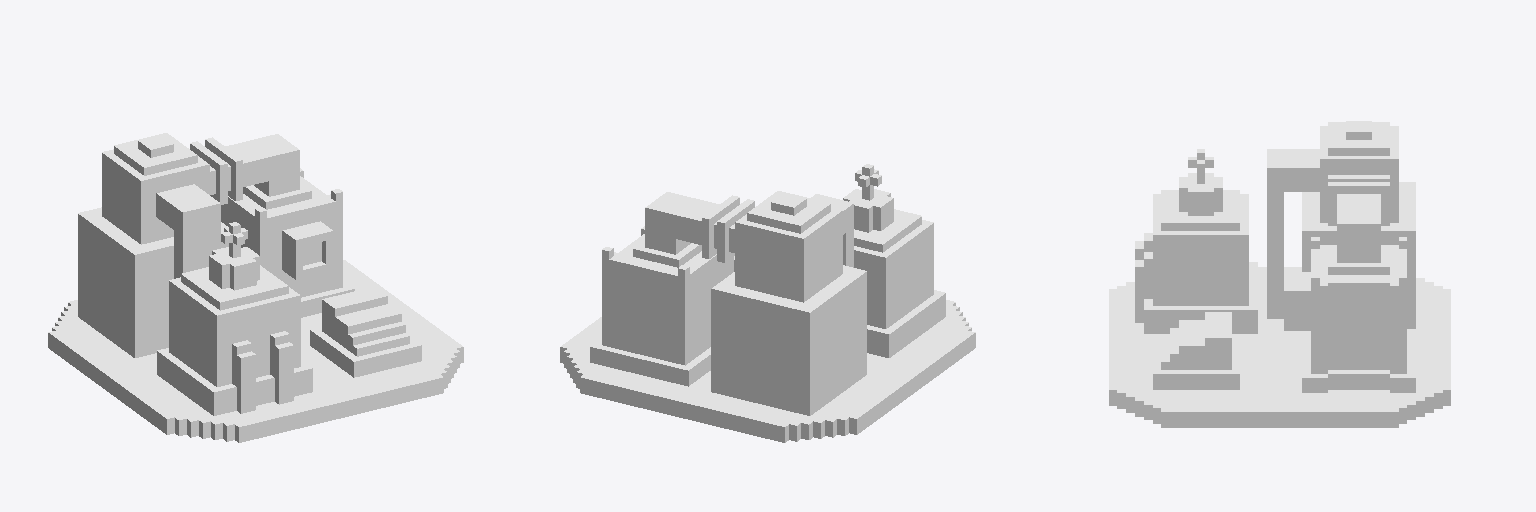
Rendered from MoneyBase.obj.
The picture shows the model from 3 angles: view 1: azimuth 30°, elevation 25°; view 2: azimuth 150°, elevation 25°; view 3: azimuth 270°, elevation 25°; orthographic projection.
Size of the model in its own units: 39 by 25 by 39.